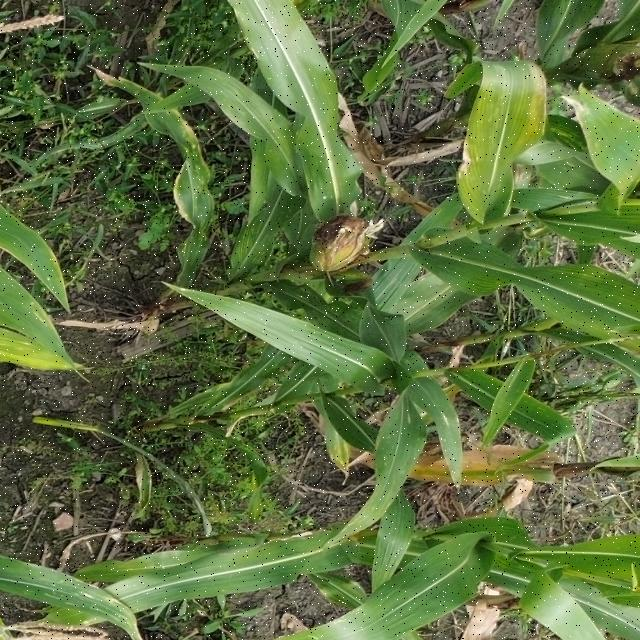gray-leaf-spot: (478, 89, 516, 155), (309, 293, 363, 331), (548, 120, 595, 154), (243, 213, 273, 265)
southern-leaf-blight: (185, 136, 222, 240), (28, 574, 127, 611), (211, 89, 289, 134), (380, 426, 416, 487), (509, 389, 555, 436), (408, 362, 450, 410)
